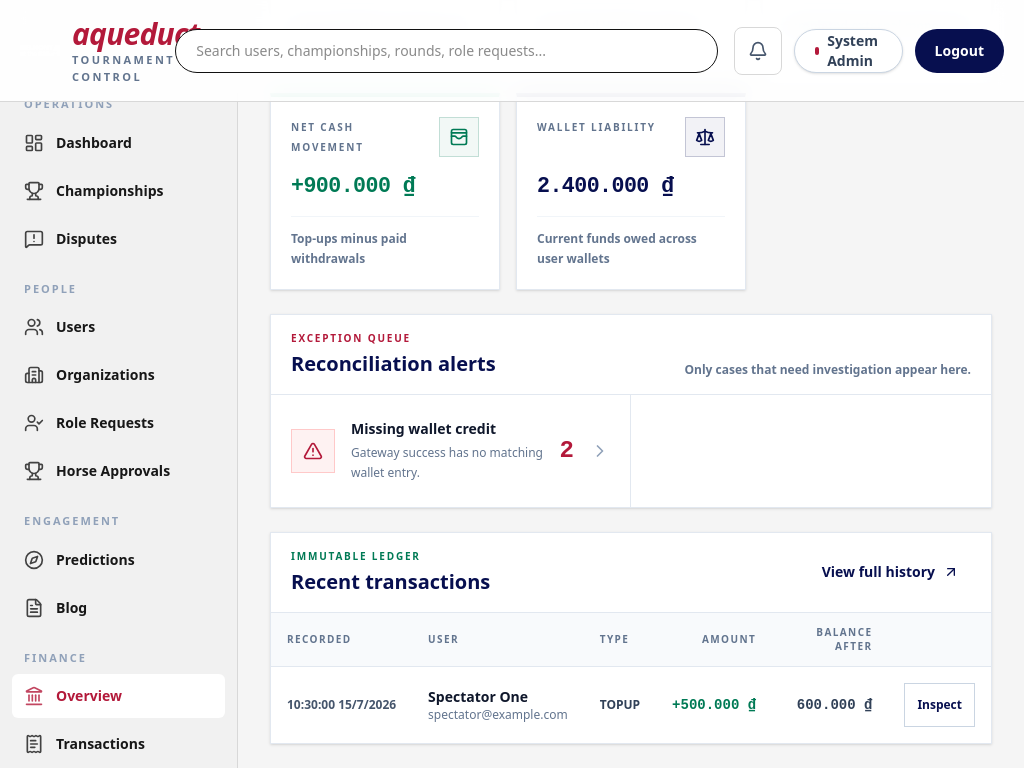
Test: AdminFinanceOverviewPage › shows finance health, actionable reconciliation alerts, and recent transaction evidence
(page scrolled)
Check: the text "Net cash movement" is shown, box [291,120,364,154]
Check: the text "Wallet liability" is shown, box [537,117,656,137]
Click the button with aria-label "view transaction 91" at (940, 704), box [904,682,975,726]
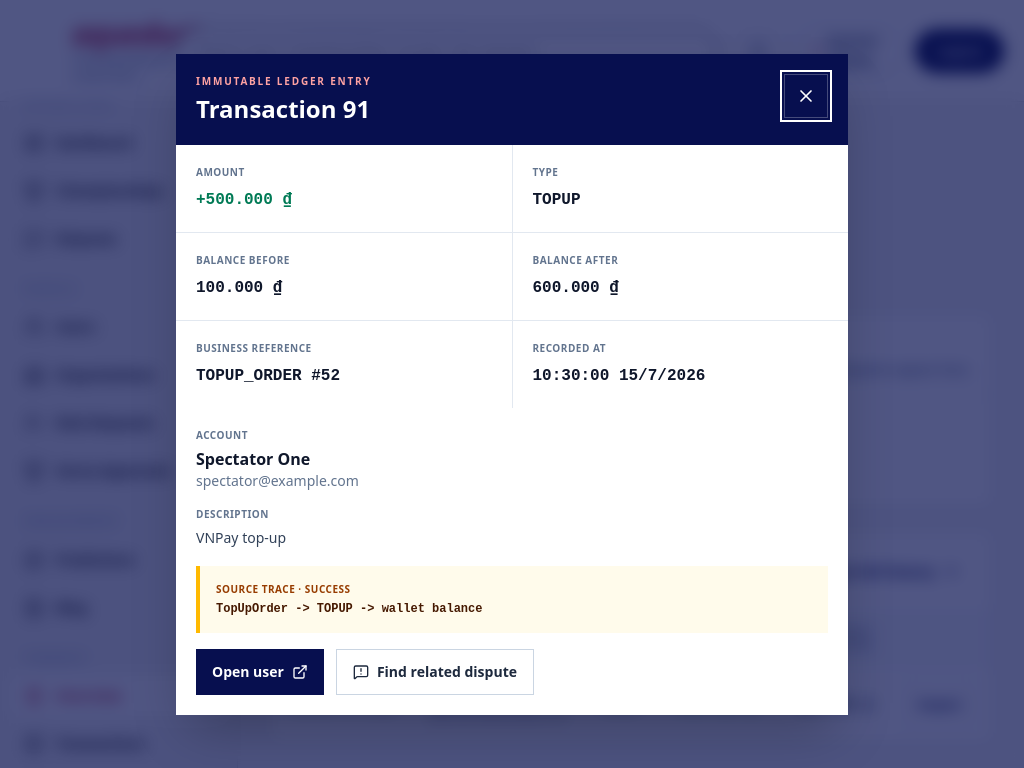
Check: the dialog "Transaction 91" is shown, box [176,54,848,714]
Check: the text "TopUpOrder -> TOPUP -> wallet balance" is shown, box [216,602,482,616]
